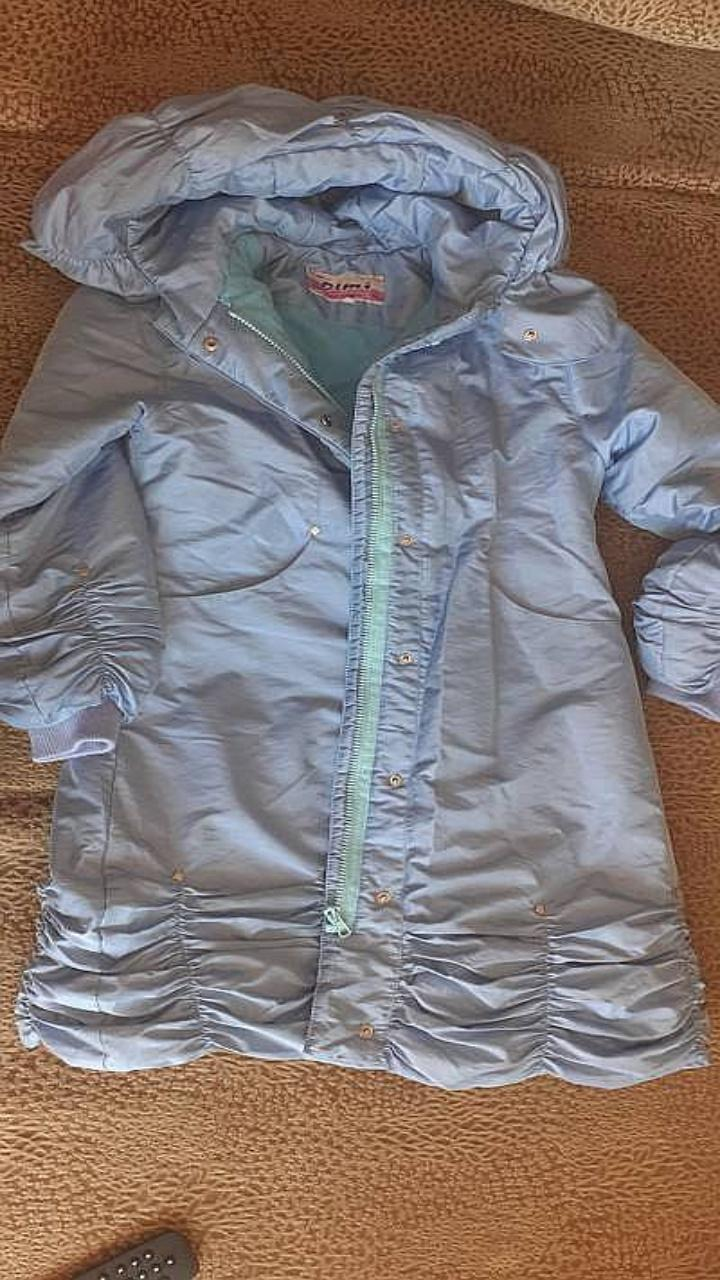Coat: (0, 84, 719, 1088)
